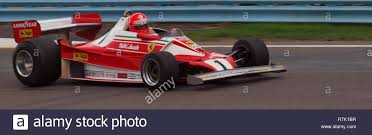f1_car: (6, 6, 296, 97)
